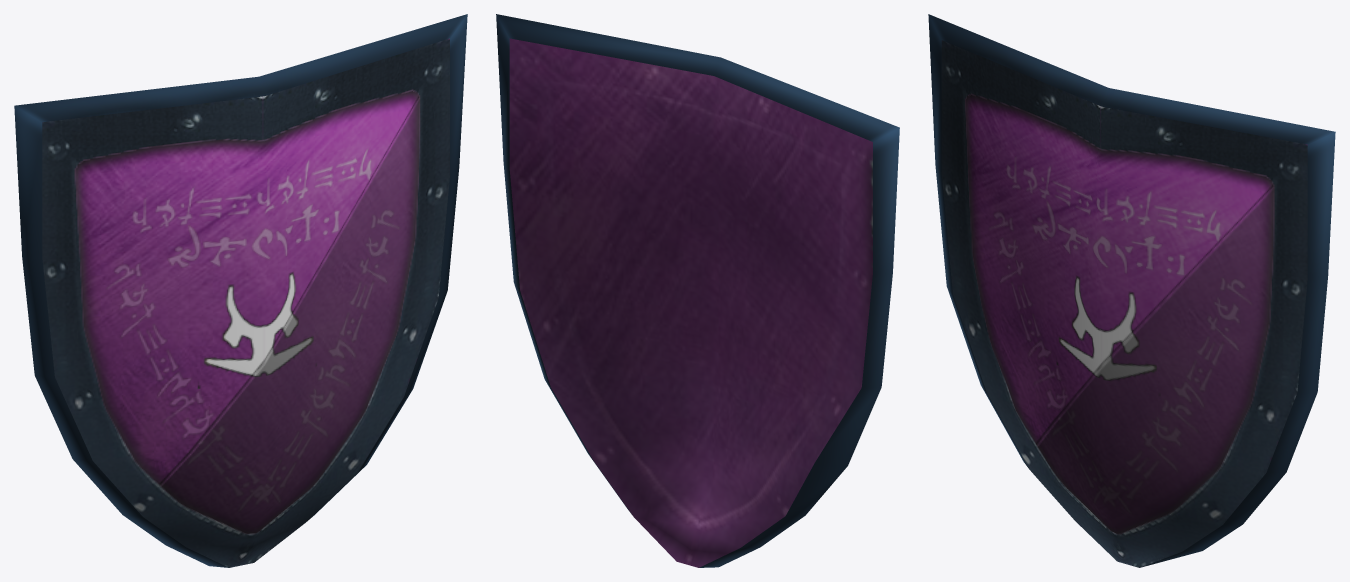
File: shield01.FBX
3 renders of one model, left to right at view 1: azimuth 30°, elevation 25°; view 2: azimuth 150°, elevation 25°; view 3: azimuth 330°, elevation 25°, orthographic. The views are drawn at different scales.
Visible parts, largest first — view 1: shield01; view 2: shield01; view 3: shield01.
Boxes of the visible parts, x1,y1,x2,y2 form: shield01: (14, 14, 467, 567); shield01: (496, 14, 899, 567); shield01: (928, 14, 1335, 567).
Size of the model in its own units: 0.774 by 0.1285 by 0.8565.
